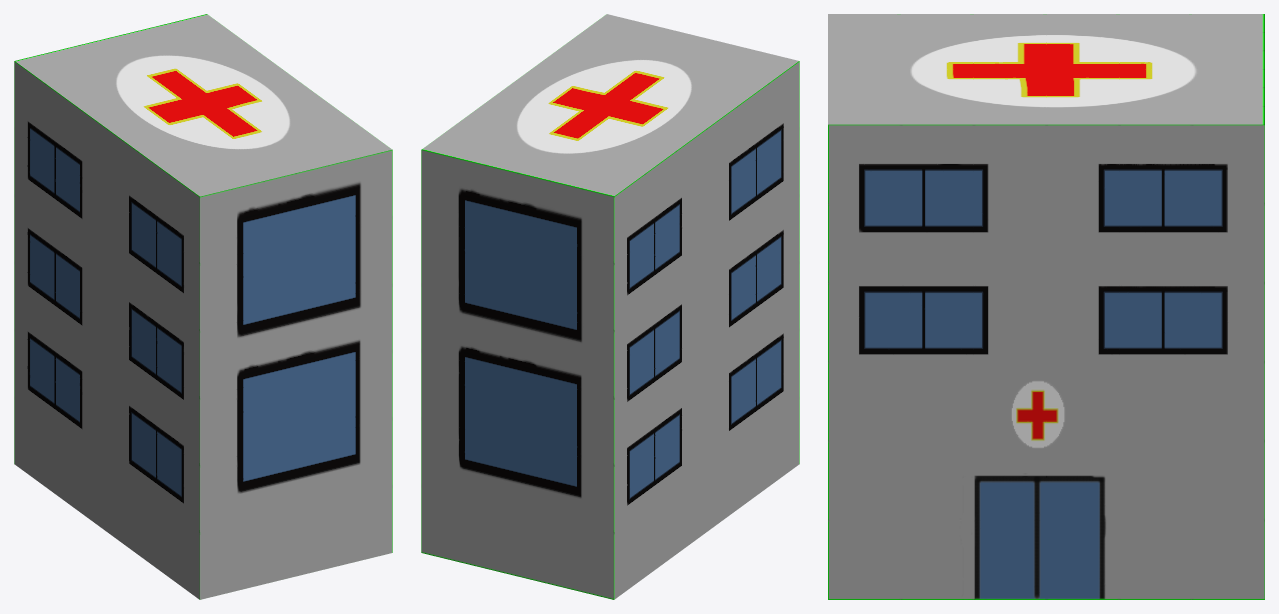
The model's file is Hospital.FBX.
3 renders of one model, left to right at view 1: azimuth 30°, elevation 25°; view 2: azimuth 150°, elevation 25°; view 3: azimuth 270°, elevation 25°, orthographic. The views are drawn at different scales.
Parts seen in each view (by area): view 1: Box001; view 2: Box001; view 3: Box001.
Part boxes in pixels (<box>): Box001: <box>14,14,392,599</box>; Box001: <box>421,14,799,599</box>; Box001: <box>828,14,1264,599</box>.
Bounding box in the file's own units: 15 × 30 × 25.
